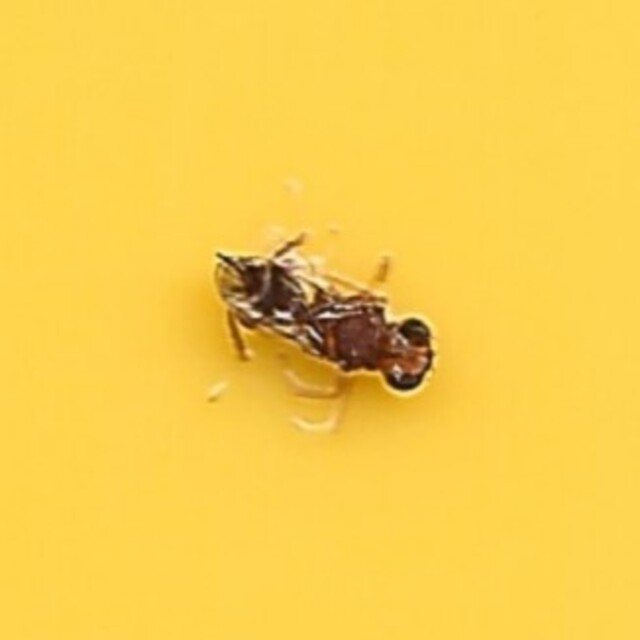Brachycera: (196, 212, 444, 428)
